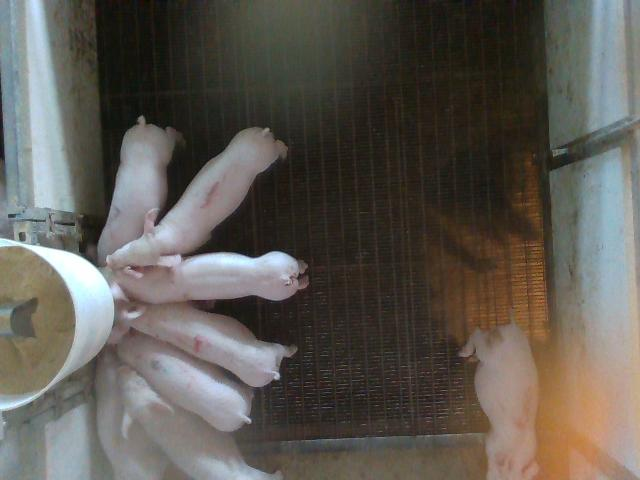pig-1: (106, 128, 286, 277)
pig-3: (459, 316, 539, 478)
pig-4: (108, 282, 296, 387)
